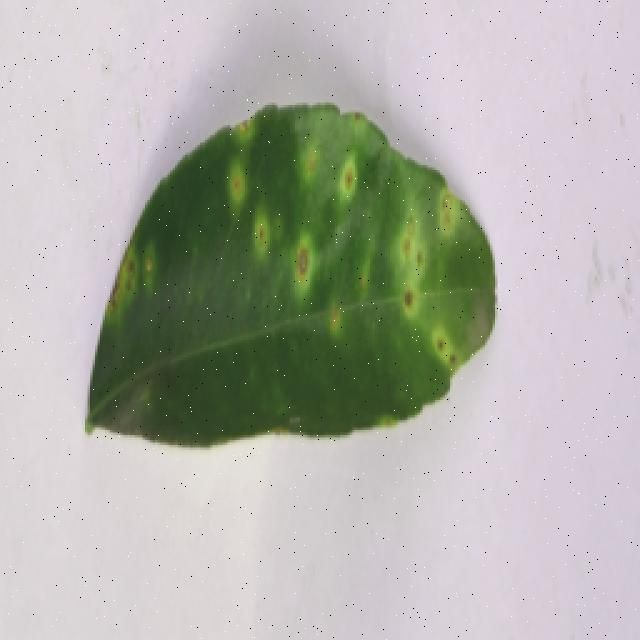canker: (68, 102, 501, 473)
